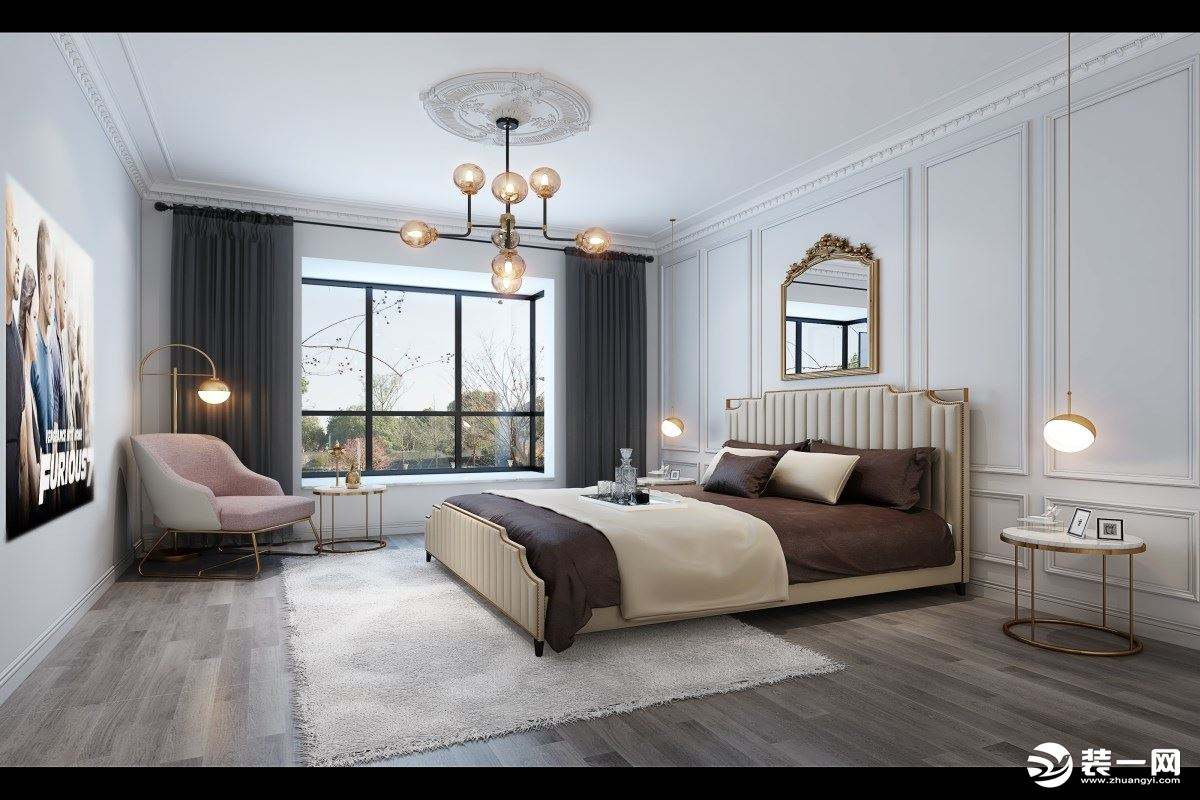床: (418, 477, 949, 640)
枕头: (698, 443, 927, 512)
灯: (395, 107, 616, 292), (1036, 411, 1099, 468), (185, 370, 232, 420), (653, 410, 692, 454)
